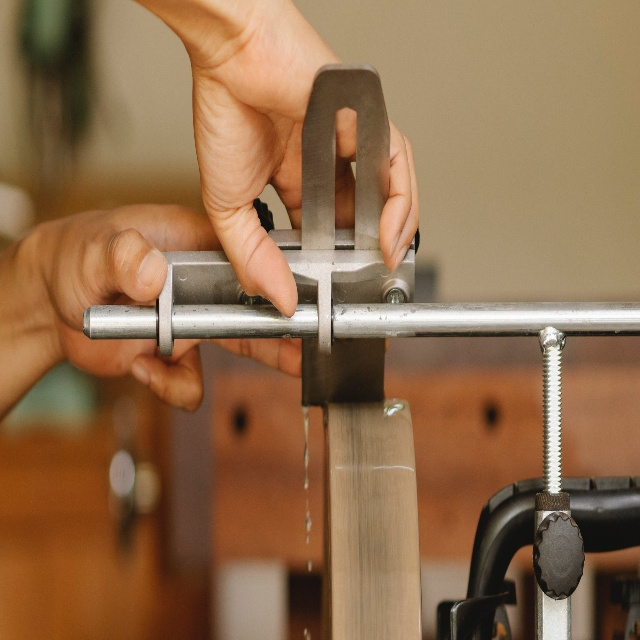Sin_guantes: (190, 0, 420, 316), (41, 201, 302, 414)
